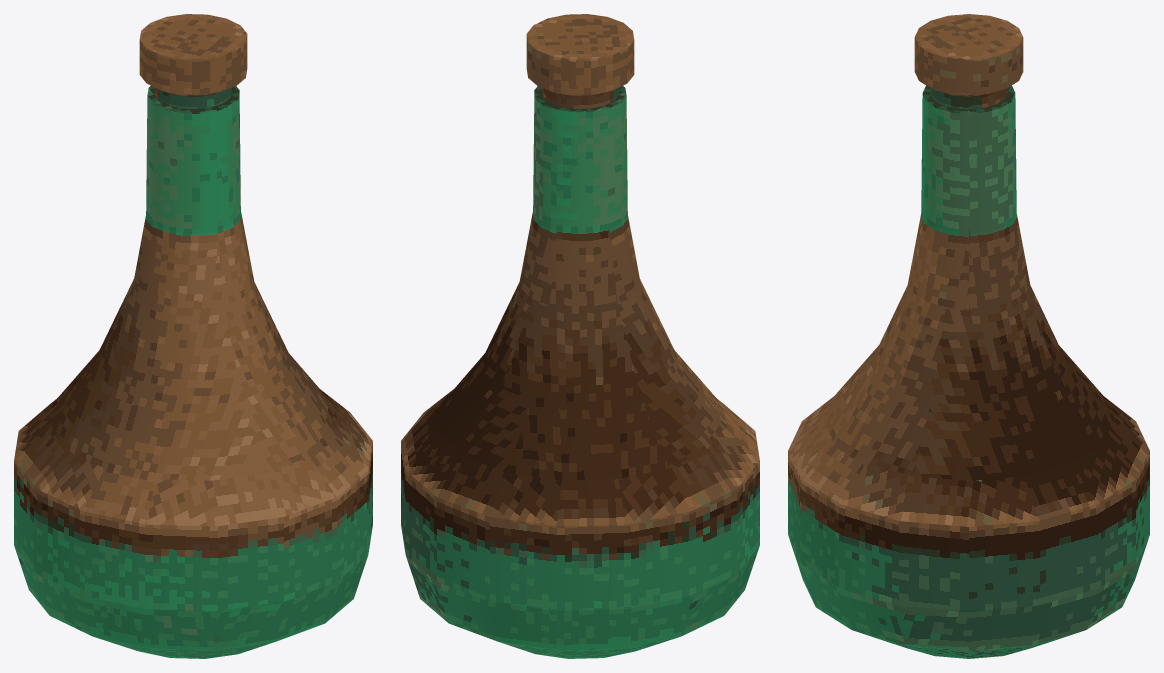
Rendered from Potion_Var_2.gltf.
3 views of the same model, side by side, from view 1: azimuth 30°, elevation 25°; view 2: azimuth 150°, elevation 25°; view 3: azimuth 270°, elevation 25° (orthographic).
Visible parts, largest first — view 1: Potion_Var_2; view 2: Potion_Var_2; view 3: Potion_Var_2.
Boxes of the visible parts, x1,y1,x2,y2 form: Potion_Var_2: (14, 14, 372, 658); Potion_Var_2: (401, 14, 759, 658); Potion_Var_2: (788, 14, 1149, 658).
Size of the model in its own units: 0.9609 by 1.71 by 0.9609.
1 material, 1 textured.
